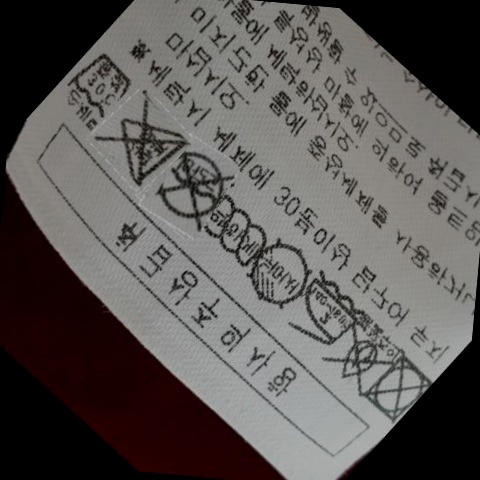DN_dry_clean: (160, 150, 224, 226)
DN_tumble_dry: (367, 347, 424, 426)
dry_flat_in_shade: (247, 240, 304, 312)
hand_wash: (58, 57, 123, 131)
iron_medium: (293, 275, 357, 351)
non_chlorine_bleach: (108, 107, 180, 181)
wring: (202, 197, 268, 272)
